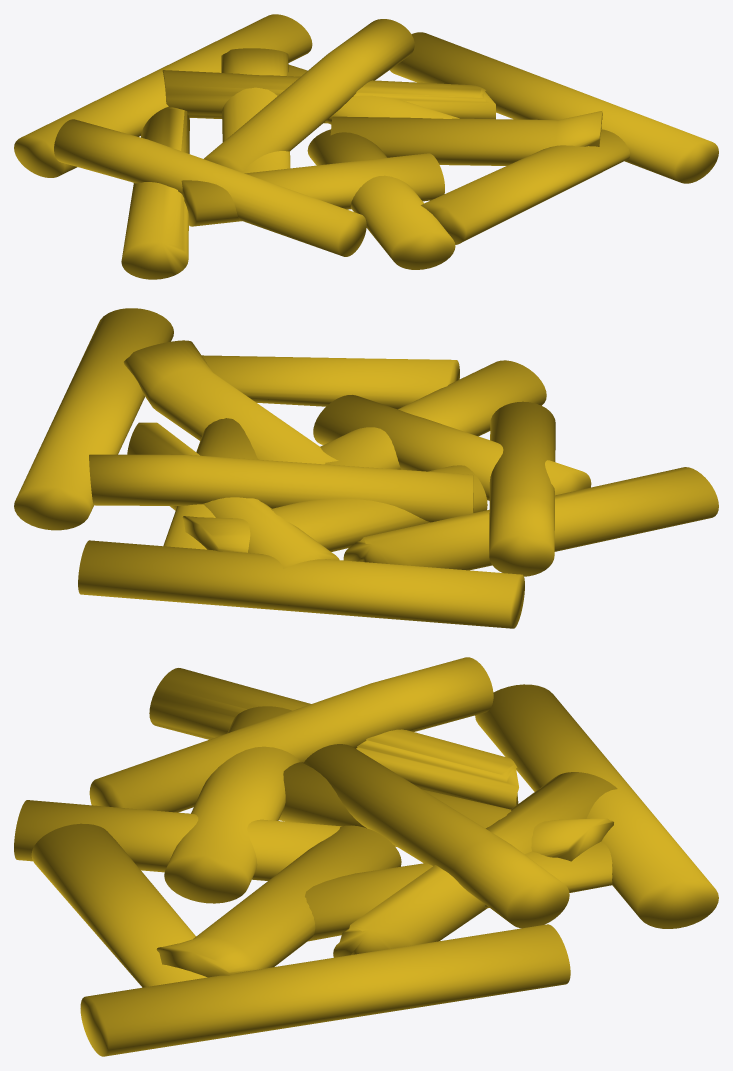
File: shredded_cheddar.fbx
The picture shows the model from 3 angles, top to bottom: view 1: azimuth 30°, elevation 25°; view 2: azimuth 150°, elevation 25°; view 3: azimuth 270°, elevation 25°; orthographic projection. The views are drawn at different scales.
Visible parts, largest first — view 1: Cylinder.000; view 2: Cylinder.000; view 3: Cylinder.000.
Boxes of the visible parts, x1,y1,x2,y2 form: Cylinder.000: [14, 14, 718, 279]; Cylinder.000: [14, 308, 718, 628]; Cylinder.000: [14, 657, 718, 1056].
Size of the model in its own units: 0.9805 by 0.1129 by 0.821.
